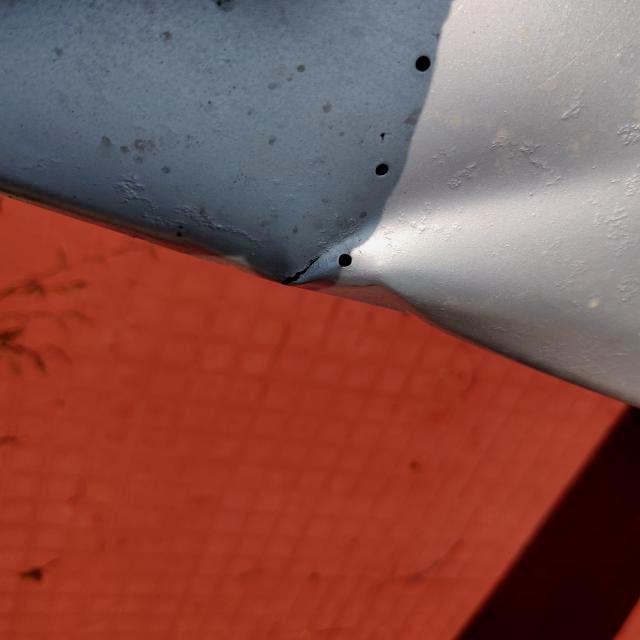crack: (270, 243, 328, 307)
dent: (262, 127, 610, 407)
